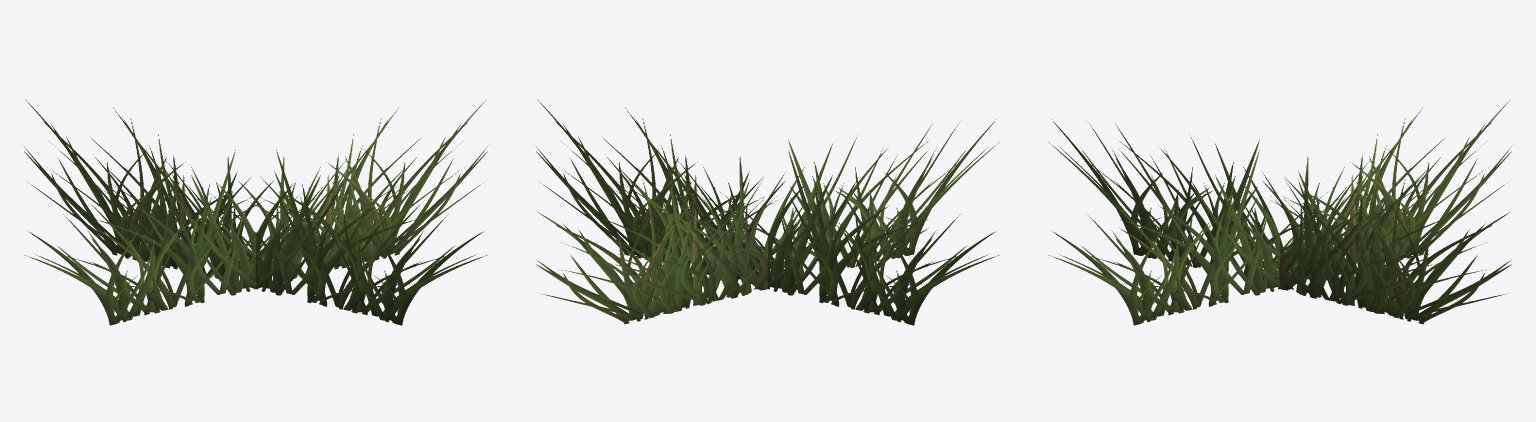
File: woodland-grass-carpet.glb
The picture shows the model from 3 angles, left to right: view 1: azimuth 30°, elevation 25°; view 2: azimuth 150°, elevation 25°; view 3: azimuth 270°, elevation 25°; orthographic projection.
Visible parts, largest first — view 1: woodland-grass-carpet; view 2: woodland-grass-carpet; view 3: woodland-grass-carpet.
Boxes of the visible parts, bbox=[...] form: woodland-grass-carpet: bbox=[22, 99, 489, 325]; woodland-grass-carpet: bbox=[534, 99, 999, 325]; woodland-grass-carpet: bbox=[1048, 99, 1513, 325].
Bounding box in the file's own units: 0.64 × 0.2 × 0.5543.
1 material, 1 textured.
